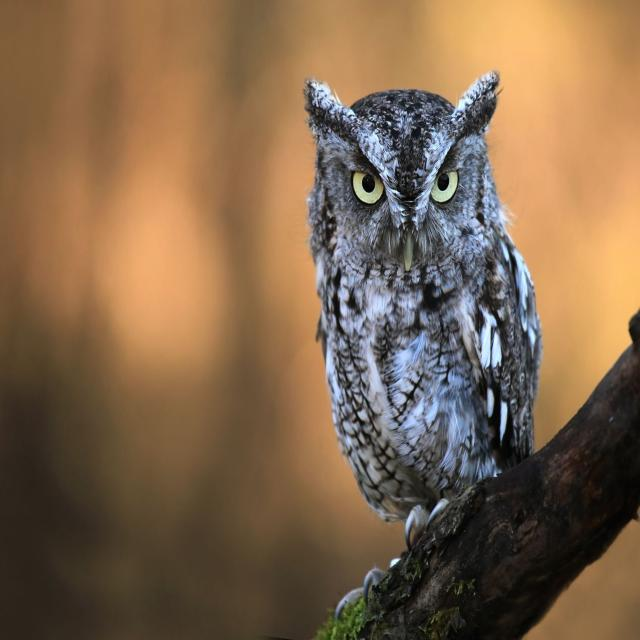Owl: (294, 55, 549, 521)
